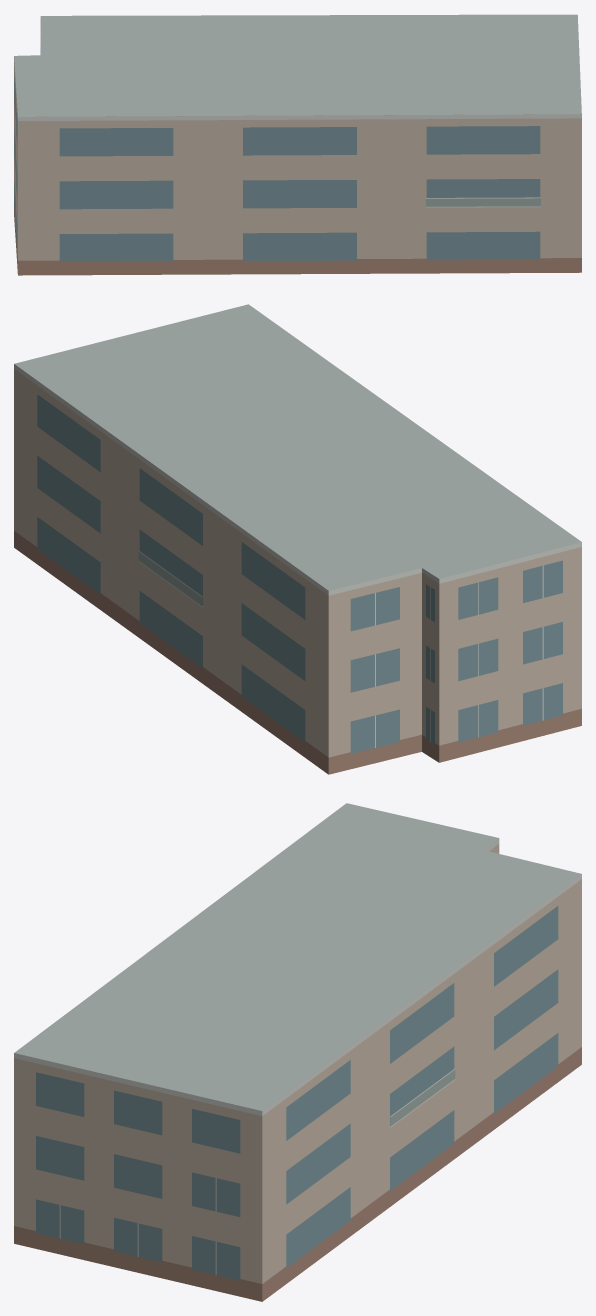
Rendered from survey-upis-32857235.glb.
The picture shows the model from 3 angles, top to bottom: view 1: azimuth 30°, elevation 25°; view 2: azimuth 150°, elevation 25°; view 3: azimuth 270°, elevation 25°; orthographic projection. The views are drawn at different scales.
Visible parts, largest first — view 1: survey-upis-32857235.tmp; view 2: survey-upis-32857235.tmp; view 3: survey-upis-32857235.tmp.
Part boxes in pixels (left/top/right/bottom): survey-upis-32857235.tmp: left=14, top=14, right=581, bottom=275; survey-upis-32857235.tmp: left=14, top=304, right=581, bottom=774; survey-upis-32857235.tmp: left=14, top=803, right=581, bottom=1301.
Size of the model in its own units: 31.7 by 9.15 by 24.7.
